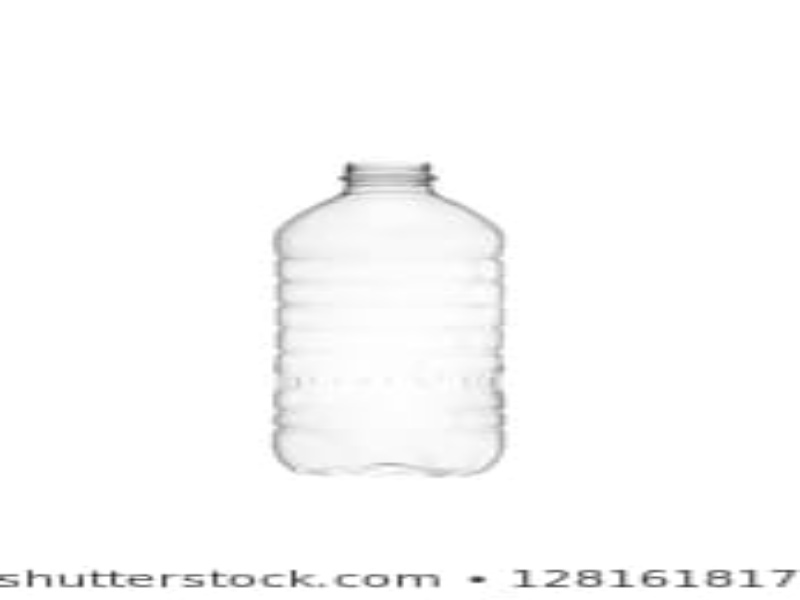plastic-bottle: (269, 161, 508, 476)
